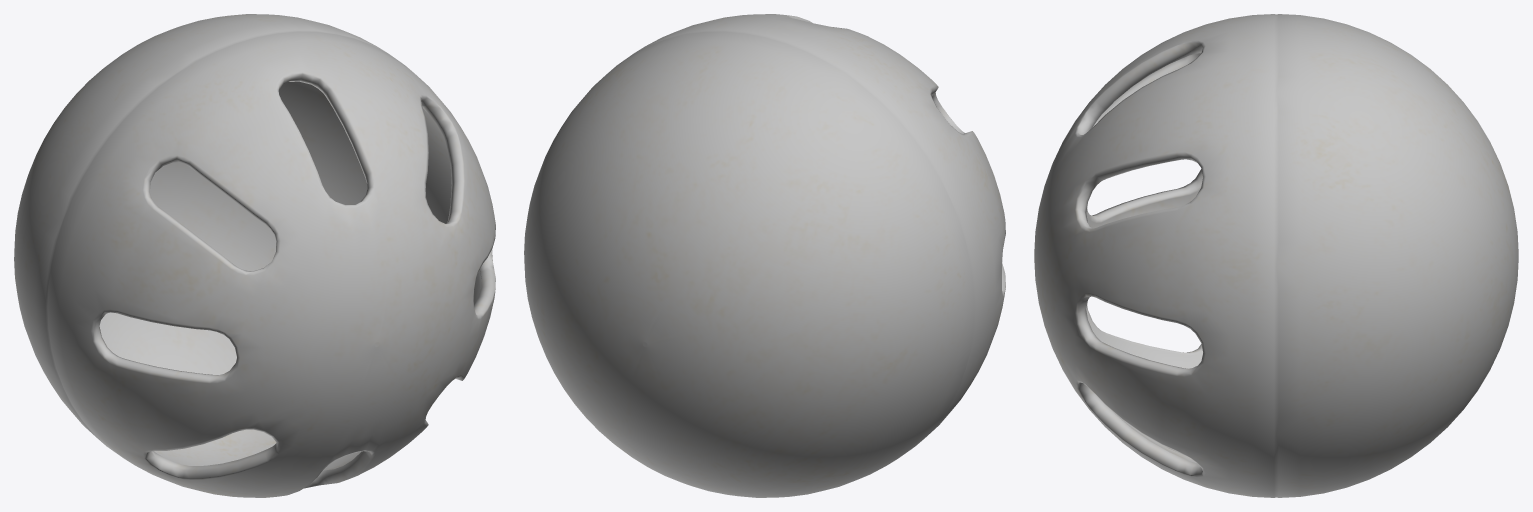
The picture shows the model from 3 angles, left to right: view 1: azimuth 30°, elevation 25°; view 2: azimuth 150°, elevation 25°; view 3: azimuth 270°, elevation 25°; orthographic projection.
Visible parts, largest first — view 1: Wiffle_Ball_convert; view 2: Wiffle_Ball_convert; view 3: Wiffle_Ball_convert.
Part boxes in pixels (x1,y1,x2,y2): Wiffle_Ball_convert: [14, 14, 495, 497]; Wiffle_Ball_convert: [524, 14, 1005, 497]; Wiffle_Ball_convert: [1034, 14, 1518, 497].
Size of the model in its own units: 4.01 by 4.01 by 4.01.
Materials: 1 (1 with a texture image).
